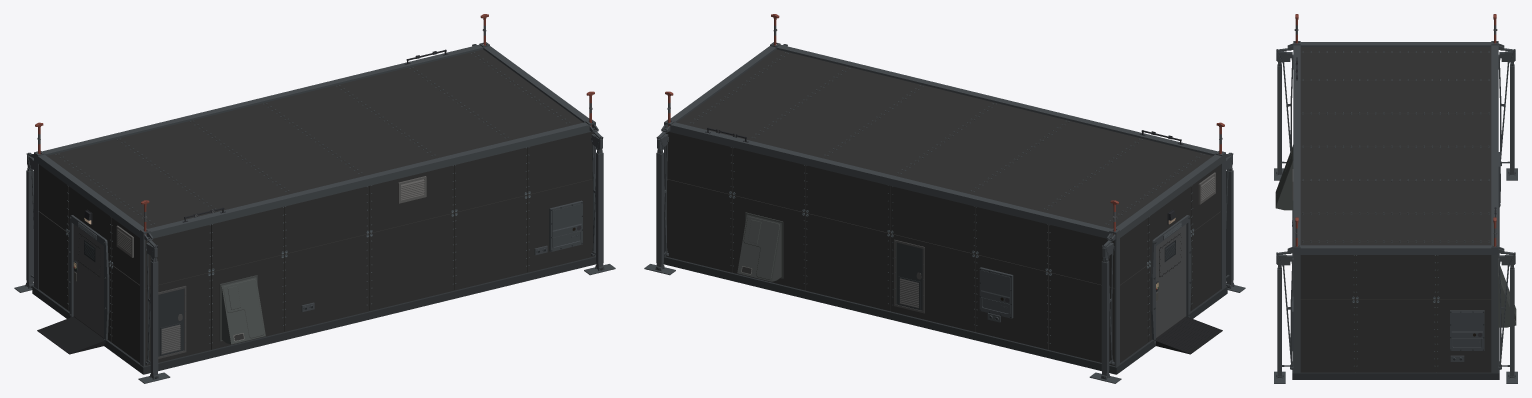
The model's file is SM_Medical_Bay.gltf.
The picture shows the model from 3 angles, left to right: view 1: azimuth 30°, elevation 25°; view 2: azimuth 150°, elevation 25°; view 3: azimuth 270°, elevation 25°; orthographic projection. The views are drawn at different scales.
Visible parts, largest first — view 1: SM_Medical_Bay, SM_Door_For_Medical_Bay_01, SM_Pilar_For_Medical_Bay_02, SM_Pilar_For_Medical_Bay_01, SM_Climb_For_Medical_Bay, SM_Pilar_For_Medical_Bay_03; view 2: SM_Medical_Bay, SM_Door_For_Medical_Bay_01, SM_Pilar_For_Medical_Bay_03, SM_Pilar_For_Medical_Bay_04, SM_Climb_For_Medical_Bay, SM_Pilar_For_Medical_Bay_02; view 3: SM_Medical_Bay, SM_Pilar_For_Medical_Bay_01, SM_Pilar_For_Medical_Bay_04, SM_Pilar_For_Medical_Bay_03, SM_Pilar_For_Medical_Bay_02.
Part boxes in pixels (left/top/right/bottom): SM_Medical_Bay: left=32, top=14, right=596, bottom=374; SM_Door_For_Medical_Bay_01: left=73, top=224, right=103, bottom=337; SM_Pilar_For_Medical_Bay_02: left=138, top=233, right=170, bottom=383; SM_Pilar_For_Medical_Bay_01: left=584, top=124, right=615, bottom=275; SM_Climb_For_Medical_Bay: left=37, top=316, right=103, bottom=354; SM_Pilar_For_Medical_Bay_03: left=14, top=152, right=33, bottom=292; SM_Medical_Bay: left=663, top=14, right=1227, bottom=374; SM_Door_For_Medical_Bay_01: left=1156, top=224, right=1186, bottom=337; SM_Pilar_For_Medical_Bay_03: left=1089, top=233, right=1121, bottom=383; SM_Pilar_For_Medical_Bay_04: left=644, top=124, right=675, bottom=275; SM_Climb_For_Medical_Bay: left=1156, top=316, right=1222, bottom=354; SM_Pilar_For_Medical_Bay_02: left=1226, top=152, right=1245, bottom=292; SM_Medical_Bay: left=1275, top=14, right=1516, bottom=379; SM_Pilar_For_Medical_Bay_01: left=1274, top=247, right=1293, bottom=383; SM_Pilar_For_Medical_Bay_04: left=1498, top=247, right=1517, bottom=383; SM_Pilar_For_Medical_Bay_03: left=1498, top=43, right=1517, bottom=180; SM_Pilar_For_Medical_Bay_02: left=1274, top=43, right=1293, bottom=180.
Bounding box in the file's own units: 13.31 × 4.4 × 6.04.
